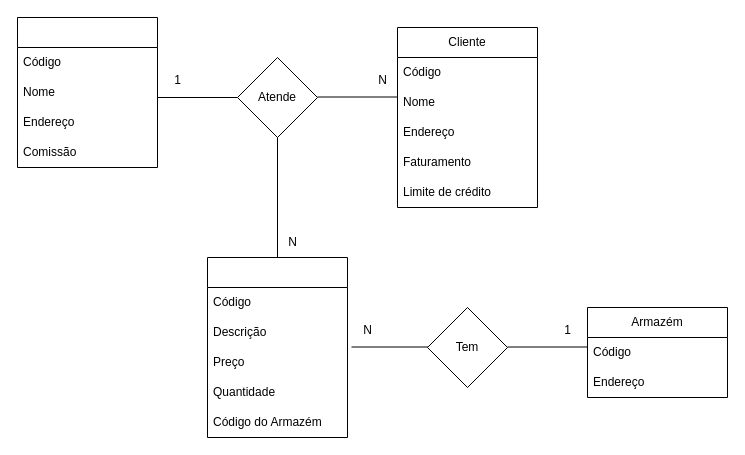
Image size: 745x455. Some labels were removed from this diagram. Each missing label, with the box of its shape:
Peças: (206, 256, 348, 438)
Vendedor: (16, 16, 158, 168)
